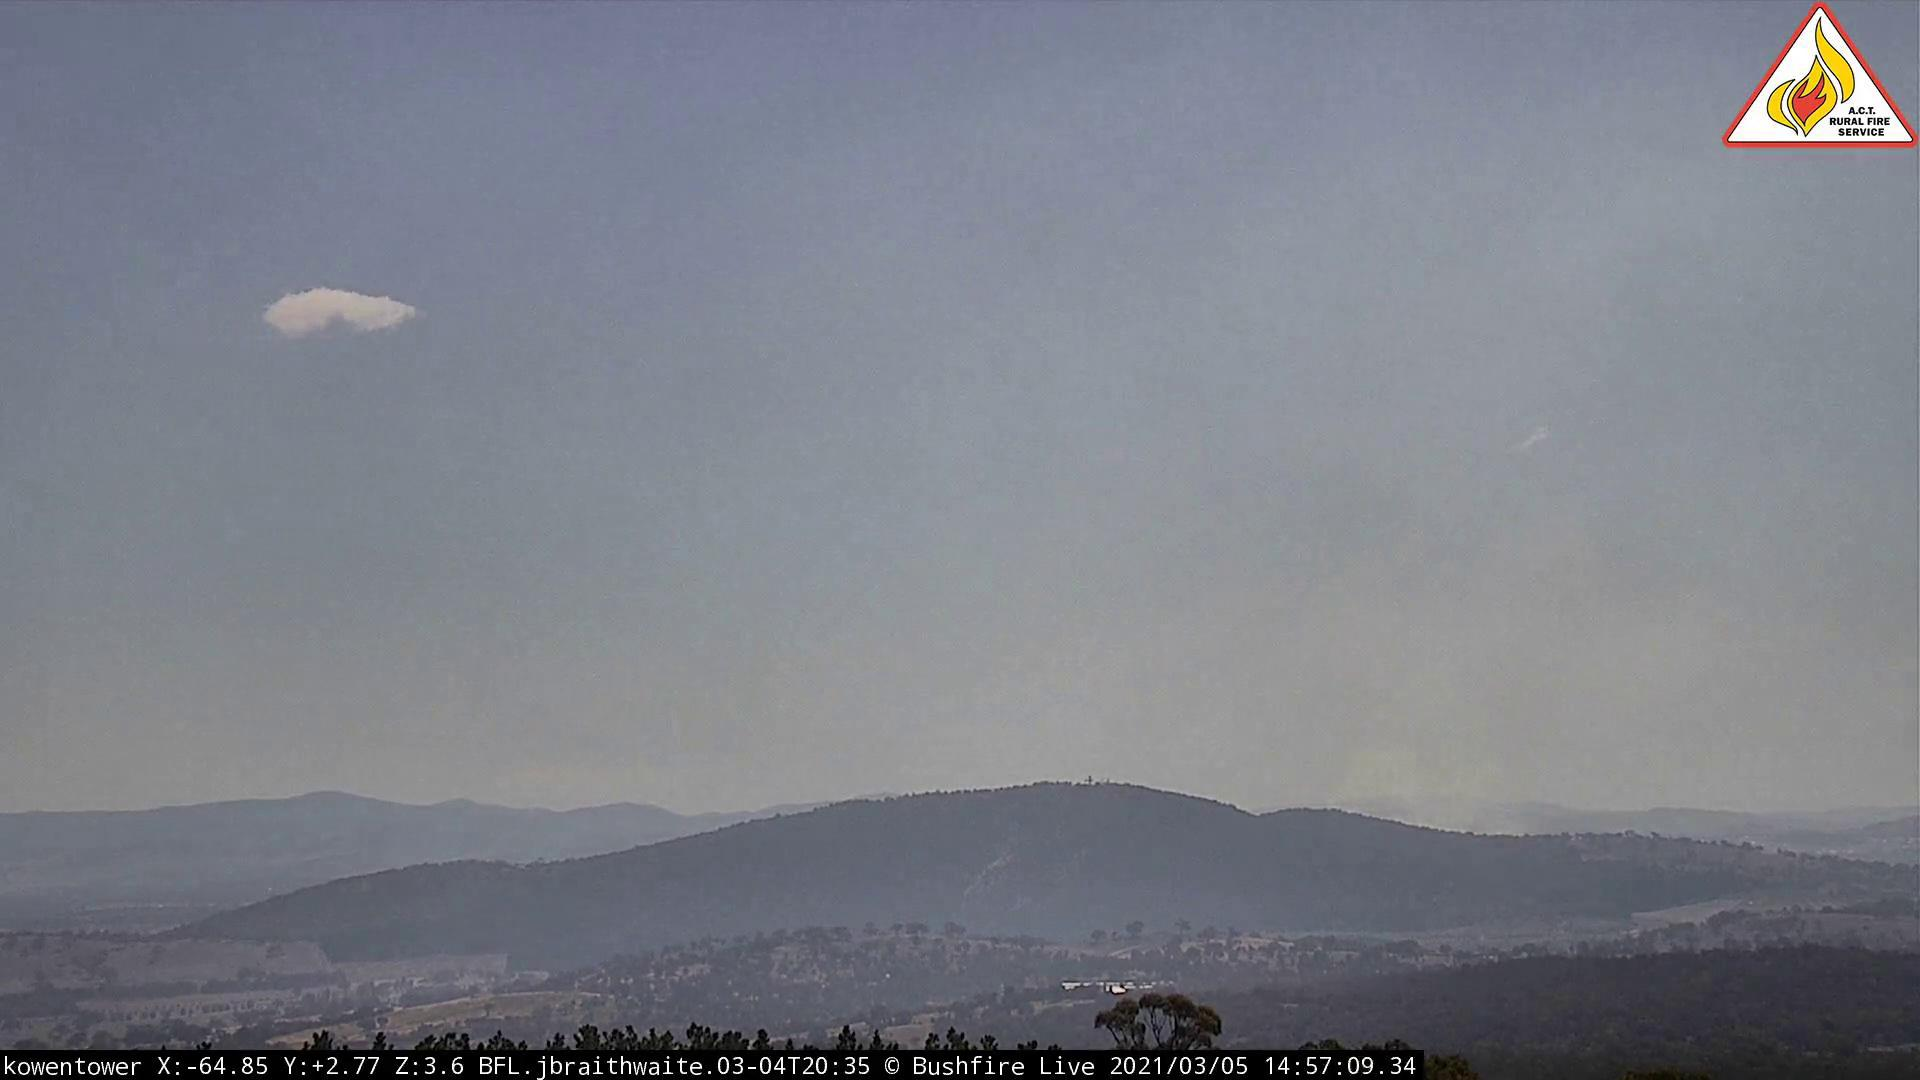Smoke: (1072, 487, 1807, 844)
